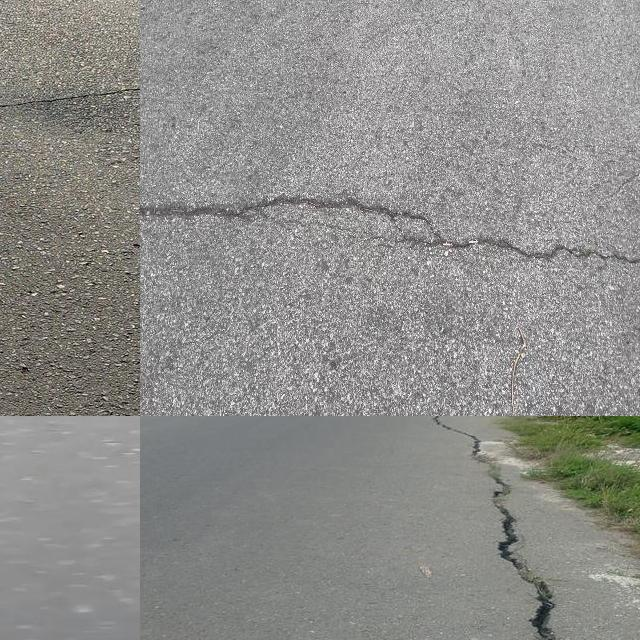Melintang: (140, 185, 640, 274), (0, 73, 140, 117)
Memanjang: (428, 416, 561, 640)
